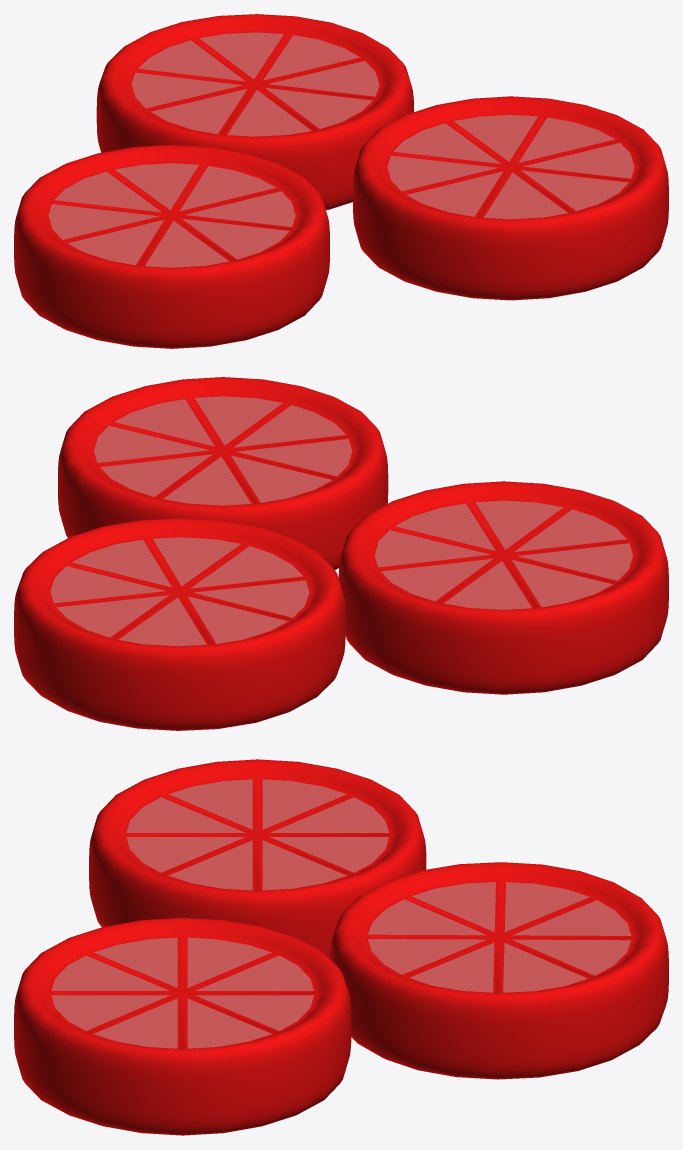
The model's file is Tomato.fbx.
The picture shows the model from 3 angles, top to bottom: view 1: azimuth 30°, elevation 25°; view 2: azimuth 150°, elevation 25°; view 3: azimuth 270°, elevation 25°; orthographic projection. The views are drawn at different scales.
Parts seen in each view (by area): view 1: Tomato_01; view 2: Tomato_01; view 3: Tomato_01.
Part boxes in pixels (left/top/right/bottom): Tomato_01: left=14, top=14, right=668, bottom=348; Tomato_01: left=14, top=377, right=668, bottom=730; Tomato_01: left=14, top=759, right=668, bottom=1135.
Size of the model in its own units: 1160 by 151 by 1065.
